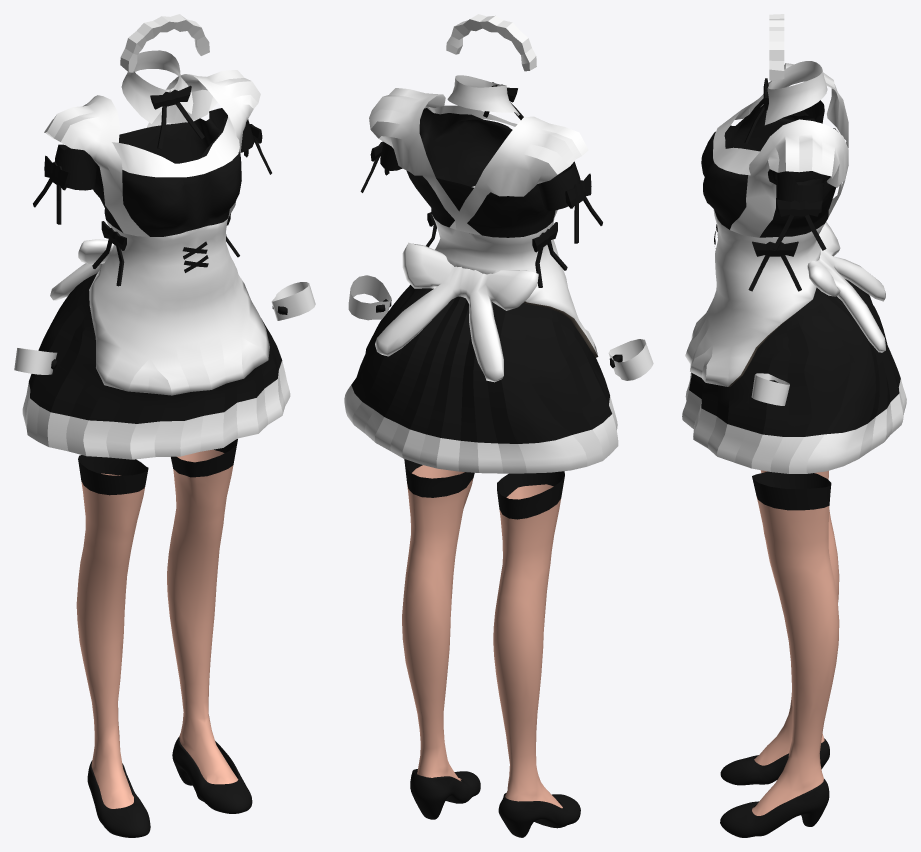
Rendered from weigher_skin_8.fbx.
The picture shows the model from 3 angles, left to right: view 1: azimuth 30°, elevation 25°; view 2: azimuth 150°, elevation 25°; view 3: azimuth 270°, elevation 25°; orthographic projection.
Parts seen in each view (by area): view 1: dress_7, dress_7_stockings, shoes_5, dress_7_tie, dress_7_sleeves, dress_7_ears; view 2: dress_7, dress_7_stockings, shoes_5, dress_7_sleeves, dress_7_tie, dress_7_ears; view 3: dress_7, dress_7_stockings, shoes_5, dress_7_tie, dress_7_ears, dress_7_sleeves.
Boxes of the visible parts, box(x1,y1,x2,y2) form: dress_7: box(22, 70, 290, 459); dress_7_stockings: box(76, 439, 238, 808); shoes_5: box(87, 737, 252, 837); dress_7_tie: box(121, 50, 204, 149); dress_7_sleeves: box(14, 282, 315, 374); dress_7_ears: box(120, 14, 209, 72); dress_7: box(344, 88, 618, 473); dress_7_stockings: box(402, 459, 564, 808); shoes_5: box(410, 769, 580, 837); dress_7_sleeves: box(348, 275, 653, 380); dress_7_tie: box(447, 75, 523, 119); dress_7_ears: box(446, 14, 536, 71); dress_7: box(682, 63, 906, 473); dress_7_stockings: box(752, 470, 839, 815); shoes_5: box(720, 738, 829, 837); dress_7_tie: box(744, 61, 827, 143); dress_7_ears: box(769, 14, 784, 80); dress_7_sleeves: box(751, 373, 789, 405).
Size of the model in its own units: 0.7113 by 1.81 by 0.47.
